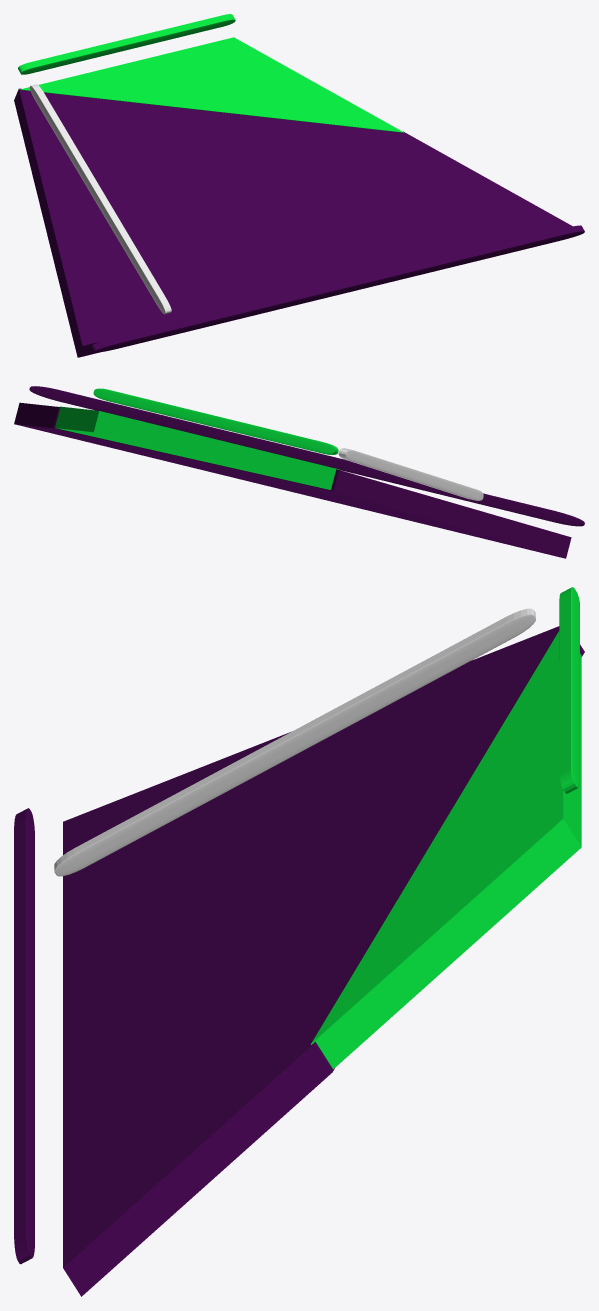
The model's file is trapezium_archipluvian.gltf.
3 renders of one model, top to bottom at view 1: azimuth 30°, elevation 25°; view 2: azimuth 150°, elevation 25°; view 3: azimuth 270°, elevation 25°, orthographic. The views are drawn at different scales.
Parts seen in each view (by area): view 1: Triangle, ExtraTr, Height; view 2: Triangle, ExtraTr, Height; view 3: Triangle, ExtraTr, Height.
Part boxes in pixels (bbox=[...]): Triangle: bbox=[14, 88, 584, 357]; ExtraTr: bbox=[18, 14, 404, 132]; Height: bbox=[29, 84, 171, 314]; Triangle: bbox=[14, 386, 584, 558]; ExtraTr: bbox=[55, 388, 339, 489]; Height: bbox=[338, 448, 483, 500]; Triangle: bbox=[14, 626, 584, 1296]; ExtraTr: bbox=[311, 587, 581, 1069]; Height: bbox=[54, 608, 535, 876].
Bounding box in the file's own units: 14.38 × 5.02 × 7.77.
